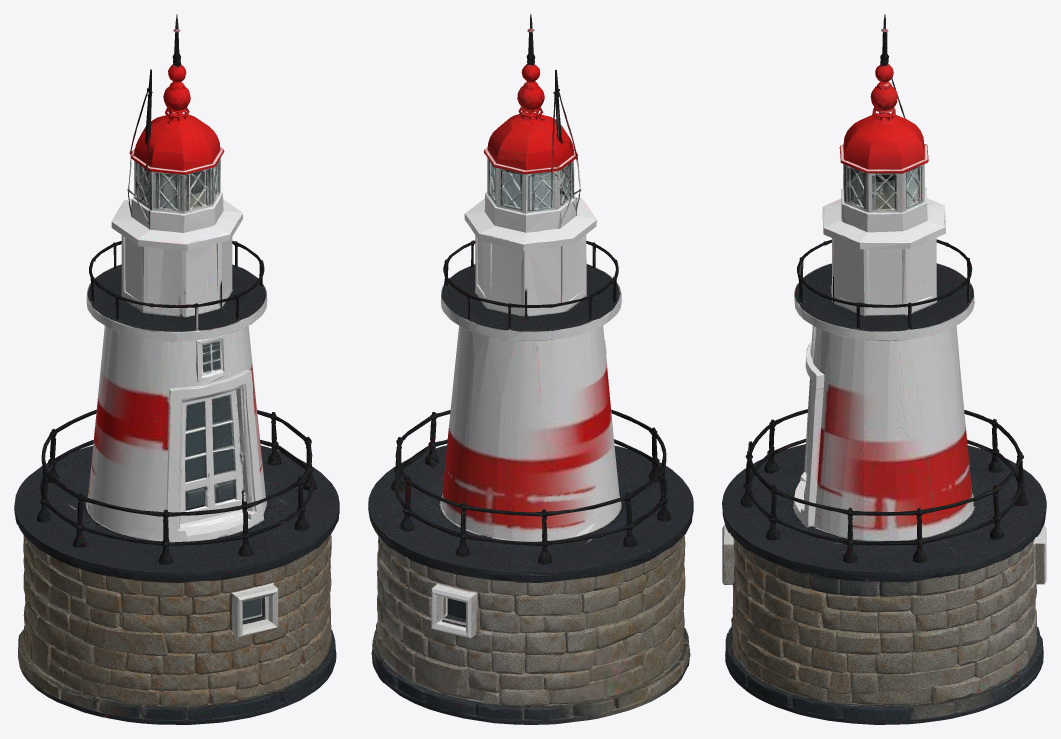
File: lighthouse.glb
3 renders of one model, left to right at view 1: azimuth 30°, elevation 25°; view 2: azimuth 150°, elevation 25°; view 3: azimuth 270°, elevation 25°, orthographic.
Parts seen in each view (by area): view 1: output_unwrapped; view 2: output_unwrapped; view 3: output_unwrapped.
Boxes of the visible parts, x1,y1,x2,y2 form: output_unwrapped: (14,14,339,724); output_unwrapped: (368,14,693,724); output_unwrapped: (722,14,1046,724).
Size of the model in its own units: 0.8692 by 1.9 by 0.8692.
1 material, 1 textured.
